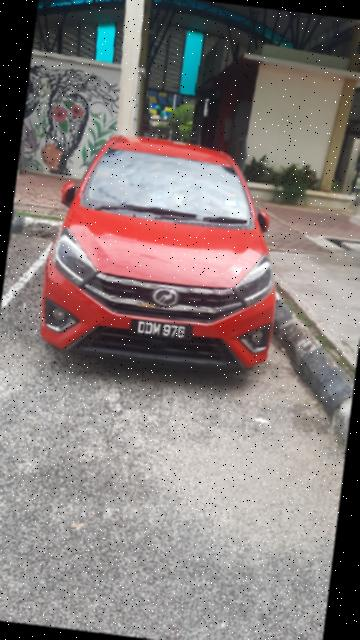License_Plate: (126, 309, 198, 346)
car: (29, 121, 302, 386)
